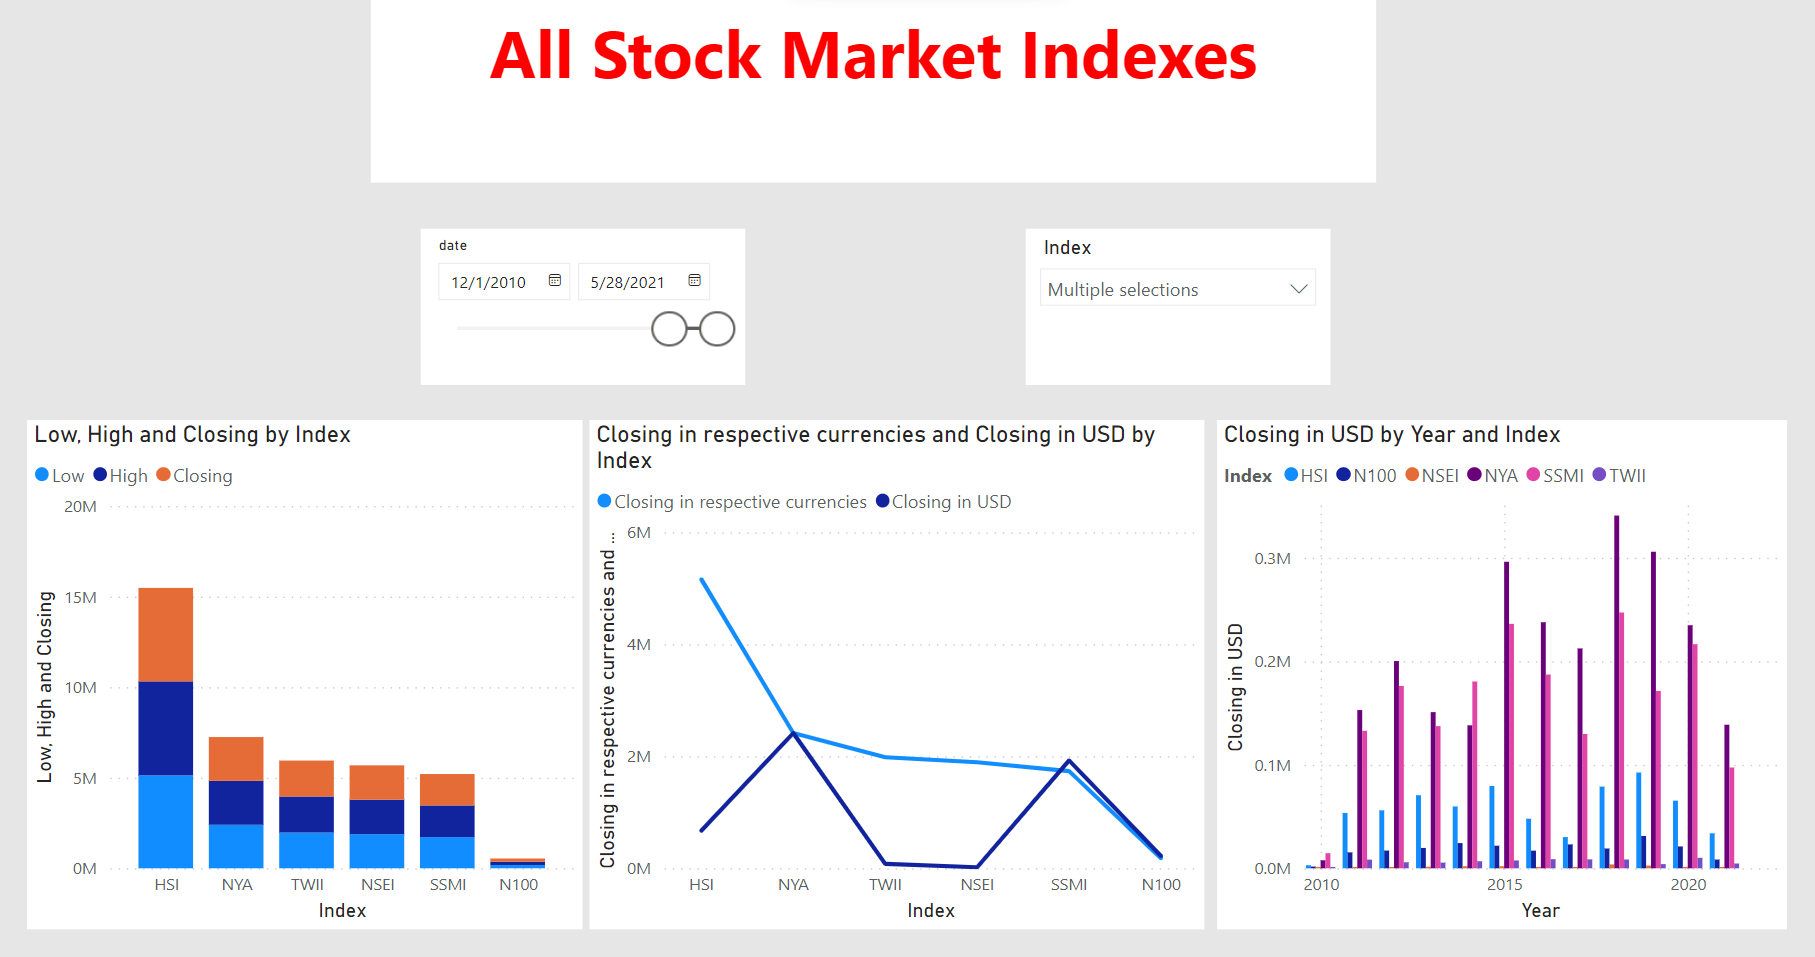

Layout of this report page (visuals, bound fields, positions):
{"tool":"powerbi","page":{"name":"Page 1","canvas":[1280,720],"ordinal":0},"visuals":[{"type":"lineStackedColumnComboChart","fields":{"Category":["kafka_stock_market_vishwadeep19.index"],"Y":["Sum(kafka_stock_market_vishwadeep19.low)","Sum(kafka_stock_market_vishwadeep19.high)","Sum(kafka_stock_market_vishwadeep19.close)"]},"box":[0,305,403.8,370],"z":0},{"type":"slicer","fields":{"Values":["kafka_stock_market_vishwadeep19.date"]},"box":[286.2,166.2,236.2,113.8],"z":1000},{"type":"lineChart","fields":{"Category":["kafka_stock_market_vishwadeep19.index"],"Y":["Sum(kafka_stock_market_vishwadeep19.close)","Sum(kafka_stock_market_vishwadeep19.closeusd)"]},"box":[408.8,305,447.5,370],"z":2000},{"type":"slicer","fields":{"Values":["kafka_stock_market_vishwadeep19.index"]},"box":[726.2,166.2,221.2,113.8],"z":3000},{"type":"clusteredColumnChart","fields":{"Category":["kafka_stock_market_vishwadeep19.date.Variation.Date Hierarchy.Year"],"Y":["Sum(kafka_stock_market_vishwadeep19.closeusd)"],"Series":["kafka_stock_market_vishwadeep19.index"]},"box":[865,305,415,370],"z":4000},{"type":"textbox","box":[250,0,650,132.5],"z":4001}]}

Visuals, with their boxes on the page's 1280x720 design canvas (x1, y1, x2, y2). These are canvas units, not pixel positions in the 1815x957 screenshot, which may show the page scaled, cropped or inside an application window:
lineStackedColumnComboChart - kafka_stock_market_vishwadeep19.index x Sum(kafka_stock_market_vishwadeep19.low): x1=0, y1=305, x2=404, y2=675
slicer - kafka_stock_market_vishwadeep19.date: x1=286, y1=166, x2=522, y2=280
lineChart - kafka_stock_market_vishwadeep19.index x Sum(kafka_stock_market_vishwadeep19.close): x1=409, y1=305, x2=856, y2=675
slicer - kafka_stock_market_vishwadeep19.index: x1=726, y1=166, x2=947, y2=280
clusteredColumnChart - kafka_stock_market_vishwadeep19.date.Variation.Date Hierarchy.Year x Sum(kafka_stock_market_vishwadeep19.closeusd): x1=865, y1=305, x2=1280, y2=675
textbox: x1=250, y1=0, x2=900, y2=132
